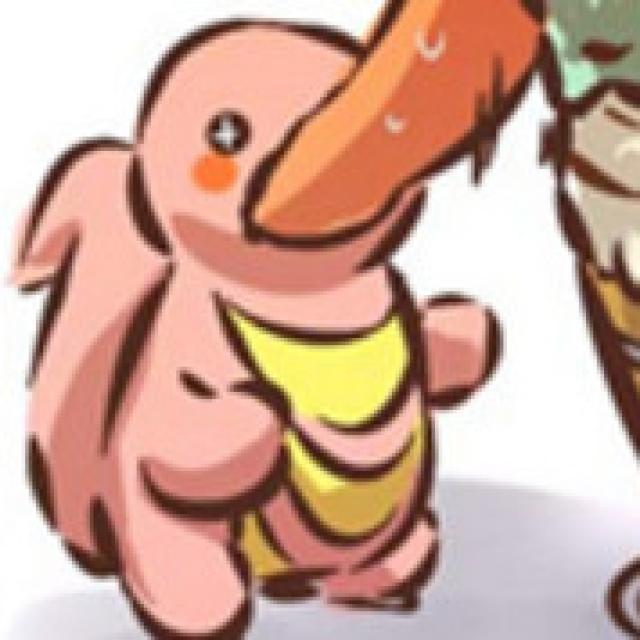Lickitung: (29, 0, 509, 633)
